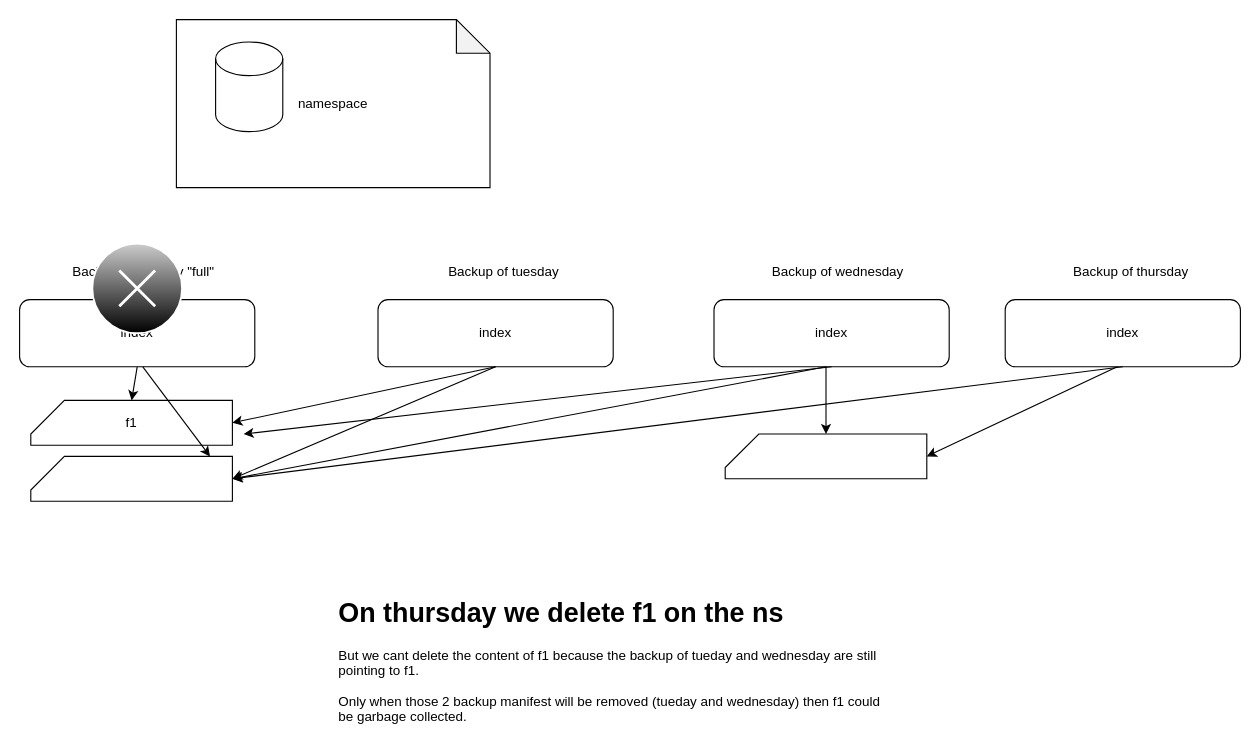
Image size: 1260x745. Some labels were removed from this diagram. Each missing label, with the centre of its shape:
f2: point 131,478
f3: point 825,456
PVC with f1 ,f2,f3: point 248,86
